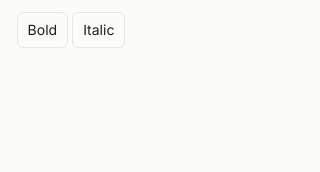
Test: ToggleGroup › renders multiple-select toggle group
The image size is (320, 172).
Click the button "Bold": (42, 30) [17,12,68,48]
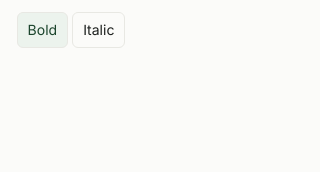
Expected: the button "Bold" has attribute data-state="on", [17,12,68,48]
Click the button "Italic": (99, 30) [72,12,125,48]
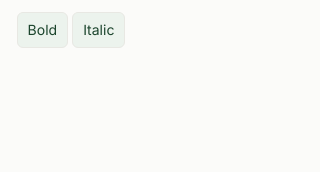
Expected: the button "Italic" has attribute data-state="on", [72,12,125,48]
Expected: the button "Bold" has attribute data-state="on", [17,12,68,48]
